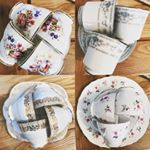cups: (80, 30, 129, 75), (7, 1, 56, 43), (89, 115, 132, 149), (14, 117, 52, 149)
